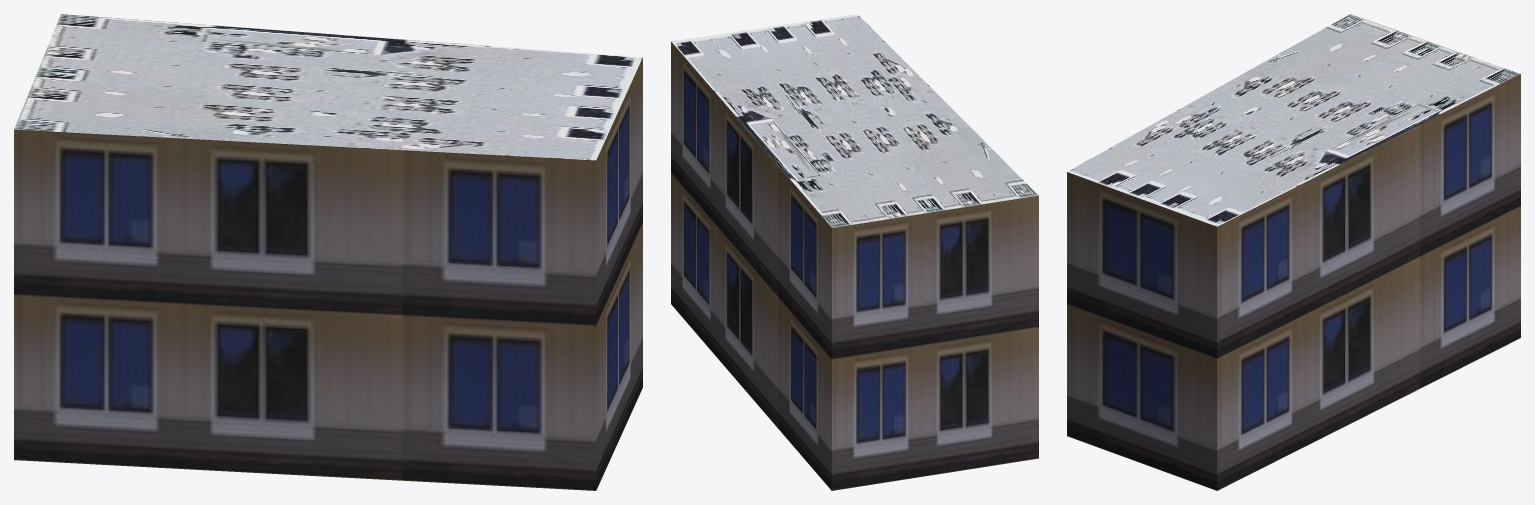
The model's file is ResTex__971.fbx.
3 views of the same model, side by side, from view 1: azimuth 30°, elevation 25°; view 2: azimuth 150°, elevation 25°; view 3: azimuth 270°, elevation 25° (orthographic). The views are drawn at different scales.
Parts seen in each view (by area): view 1: CityEngineMaterial_5_m, CityEngineMaterial_m; view 2: CityEngineMaterial_5_m, CityEngineMaterial_m; view 3: CityEngineMaterial_5_m, CityEngineMaterial_m.
Part boxes in pixels (bbox=[...]): CityEngineMaterial_5_m: bbox=[14, 57, 642, 490]; CityEngineMaterial_m: bbox=[14, 14, 642, 160]; CityEngineMaterial_5_m: bbox=[671, 42, 1038, 490]; CityEngineMaterial_m: bbox=[671, 14, 1038, 227]; CityEngineMaterial_5_m: bbox=[1067, 74, 1520, 490]; CityEngineMaterial_m: bbox=[1067, 14, 1520, 226].
Bounding box in the file's own units: 10.37 × 6 × 9.34.
2 materials, 2 textured.
